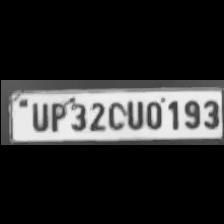0: (143, 97, 163, 129)
1: (162, 97, 182, 129)
2: (86, 97, 104, 130)
3: (66, 97, 86, 130), (200, 96, 220, 128)
9: (180, 97, 202, 129)
C: (105, 98, 124, 130)
P: (46, 97, 64, 130)
U: (26, 99, 48, 131), (124, 97, 144, 129)
